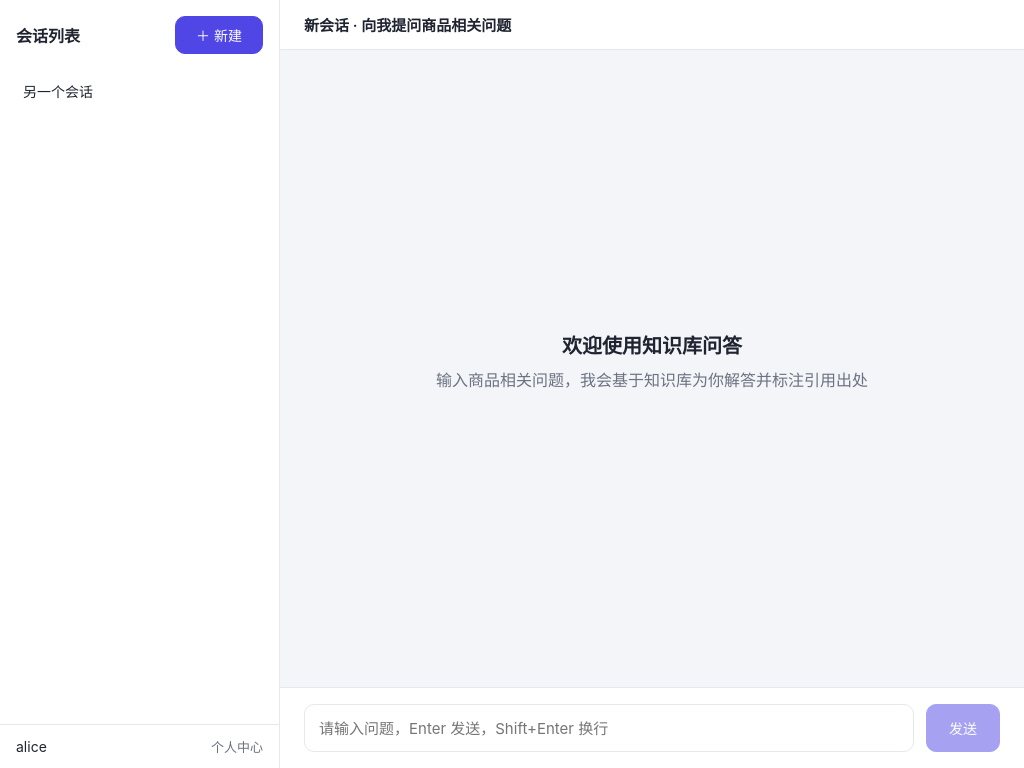
Scenario: ChatPage 会话切换 › 切换会话时中止在途流，旧回答不会串进新会话
Expected: the heading "欢迎使用知识库问答" is shown, 562,330 -> 742,359
Type "正在流式回答的问题" into the text box.
click(609, 728); type("正在流式回答的问题")  # box 304,704 -> 914,752
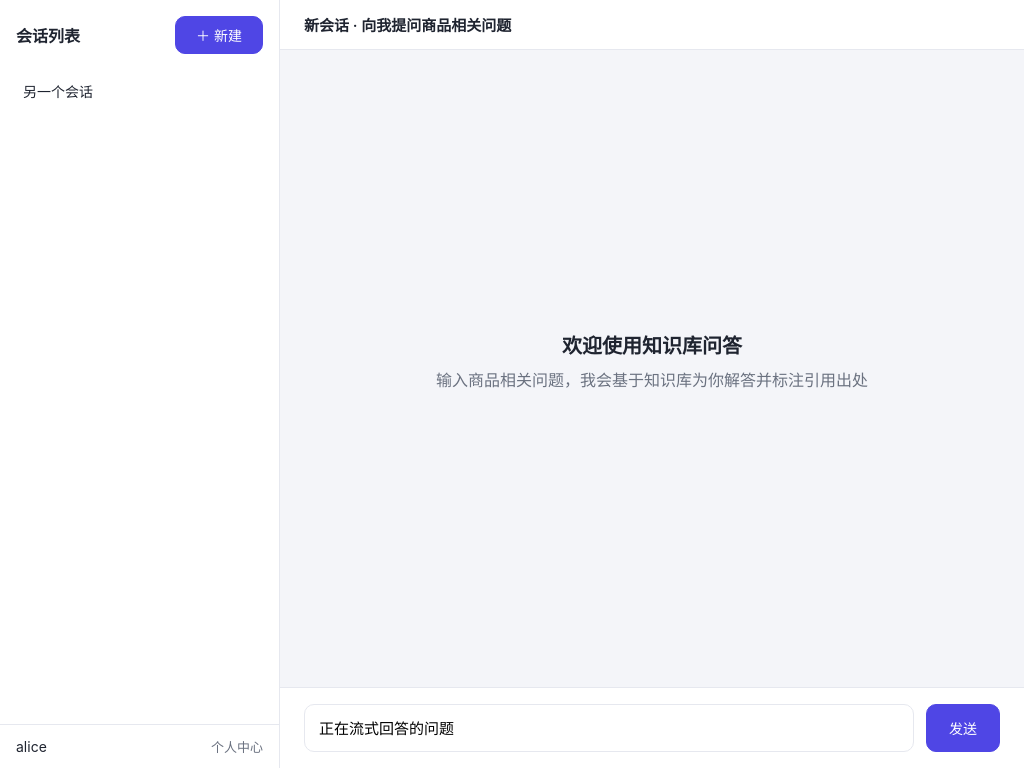
Click the button "发送".
click(963, 728)  # box 926,704 -> 1000,752
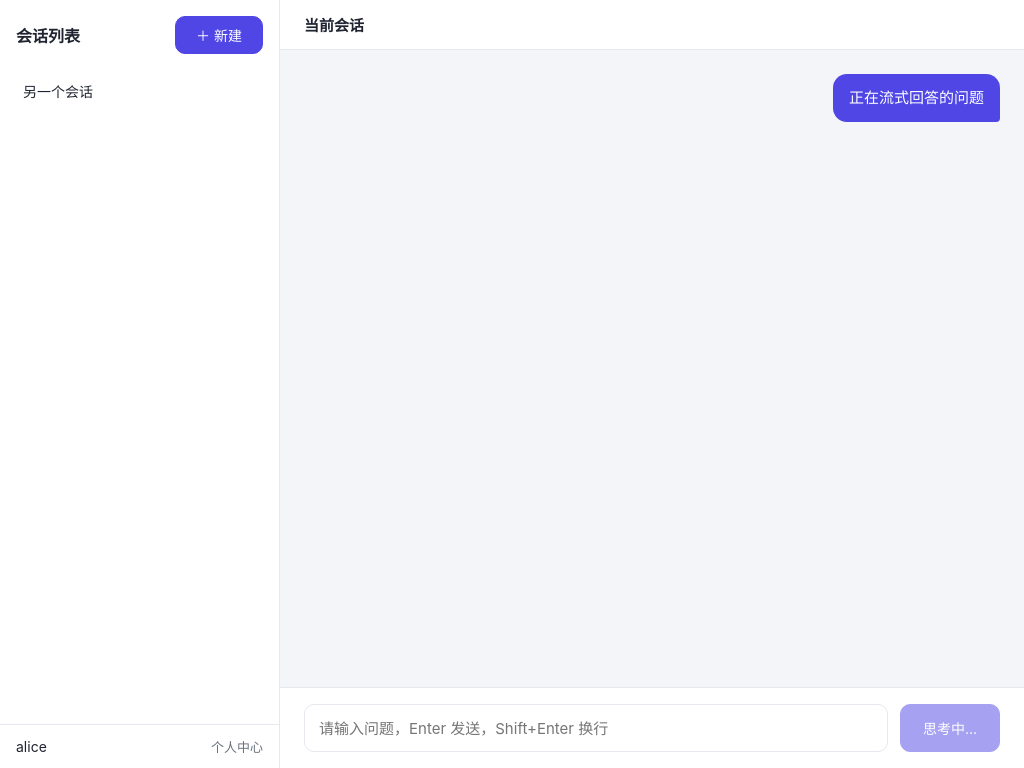
Click the text "另一个会话".
click(58, 92)  # box 23,83 -> 93,100
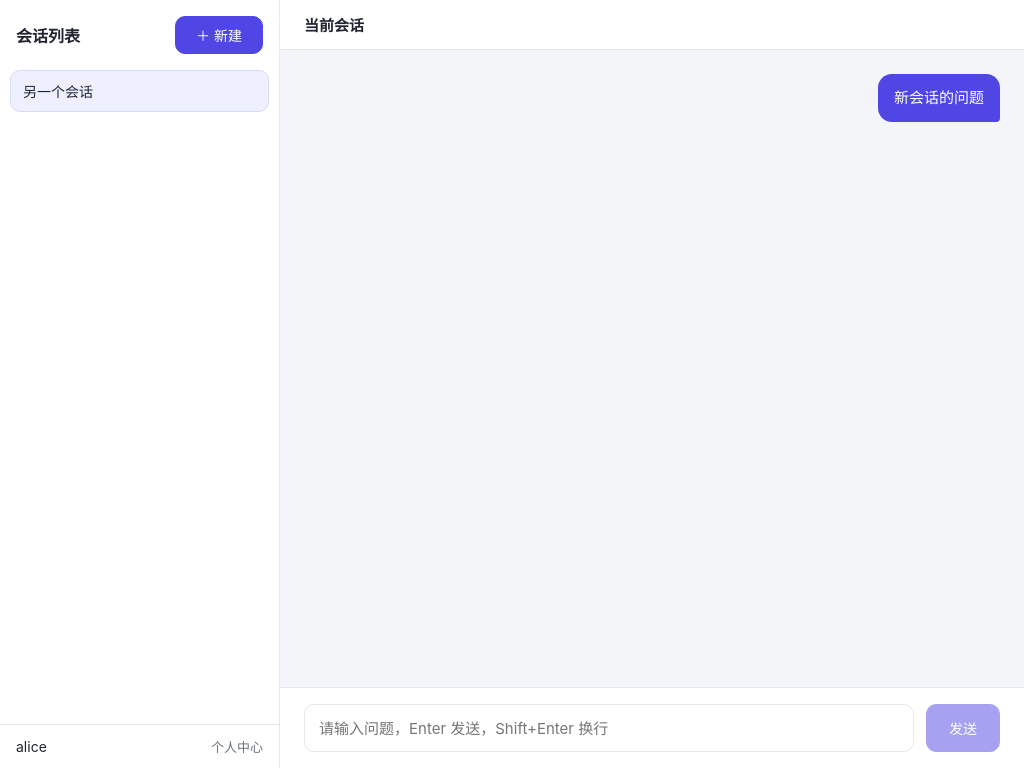
Expected: the text "新会话的问题" is shown, 878,74 -> 1000,122
Expected: the text "正在流式回答的问题" is gone
